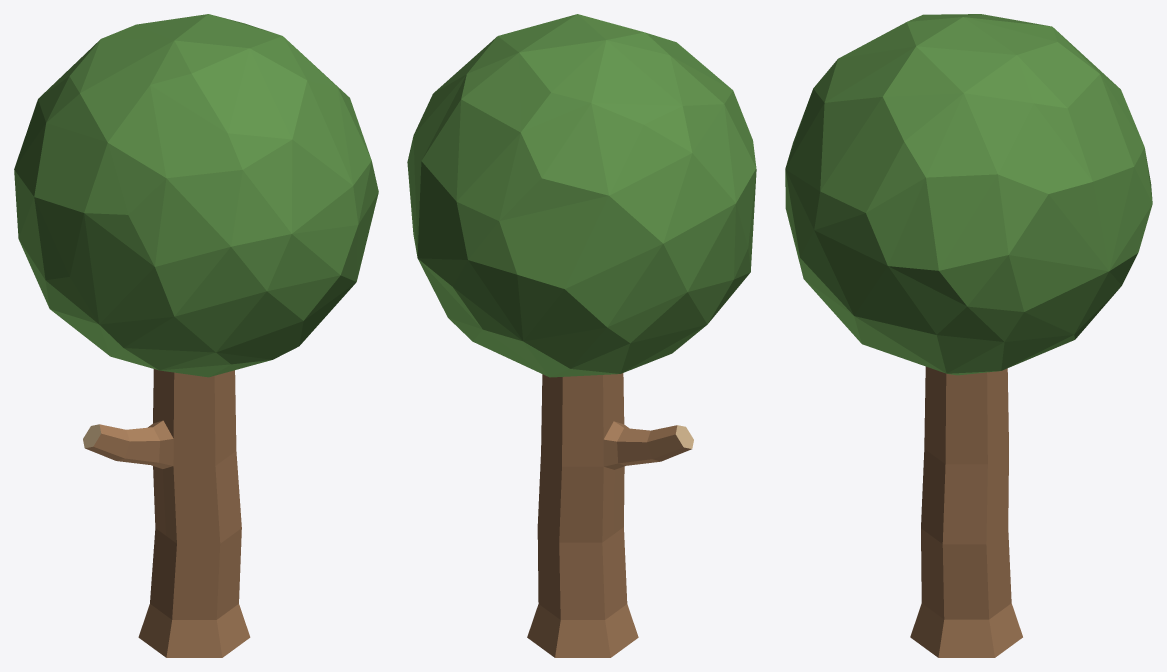
File: Tree_Fruit.fbx
3 views of the same model, side by side, from view 1: azimuth 30°, elevation 25°; view 2: azimuth 150°, elevation 25°; view 3: azimuth 270°, elevation 25° (orthographic).
Visible parts, largest first — view 1: Tree_Fruit; view 2: Tree_Fruit; view 3: Tree_Fruit.
Boxes of the visible parts, bbox=[...] form: Tree_Fruit: bbox=[14, 14, 378, 657]; Tree_Fruit: bbox=[407, 14, 756, 657]; Tree_Fruit: bbox=[785, 14, 1152, 657].
Size of the model in its own units: 2.47 by 4.46 by 2.44.
